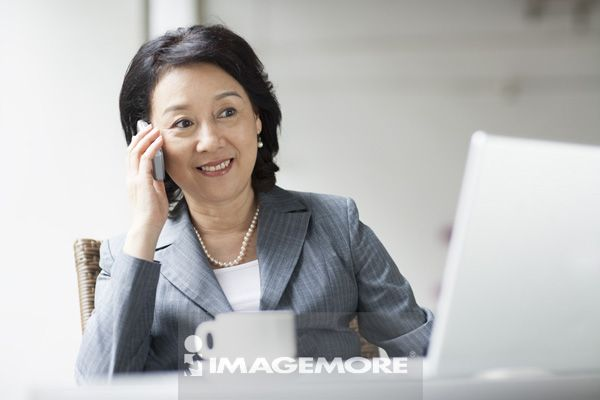phone: (138, 120, 165, 182)
talk: (125, 83, 253, 238)
